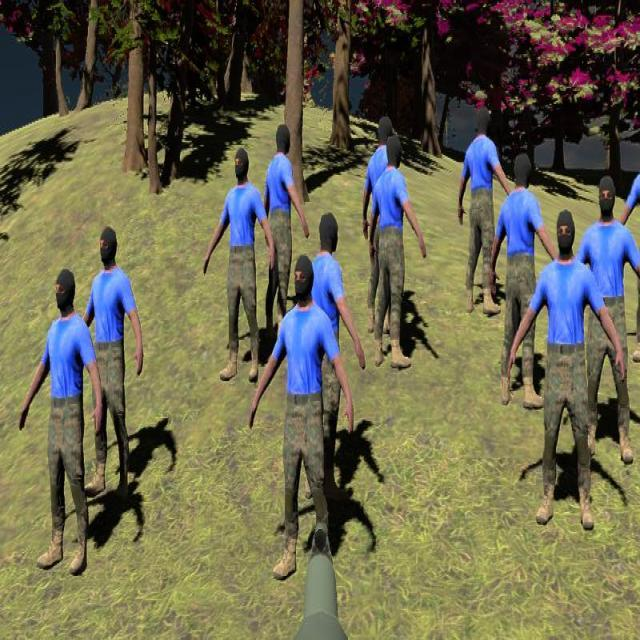Human: (505, 212, 622, 528), (248, 252, 353, 582), (16, 264, 107, 576), (296, 206, 366, 504), (73, 225, 145, 505), (488, 155, 562, 404), (570, 170, 640, 412), (203, 146, 273, 384), (369, 135, 428, 371), (457, 108, 514, 318), (263, 123, 310, 338), (361, 115, 410, 308), (613, 129, 640, 339)
